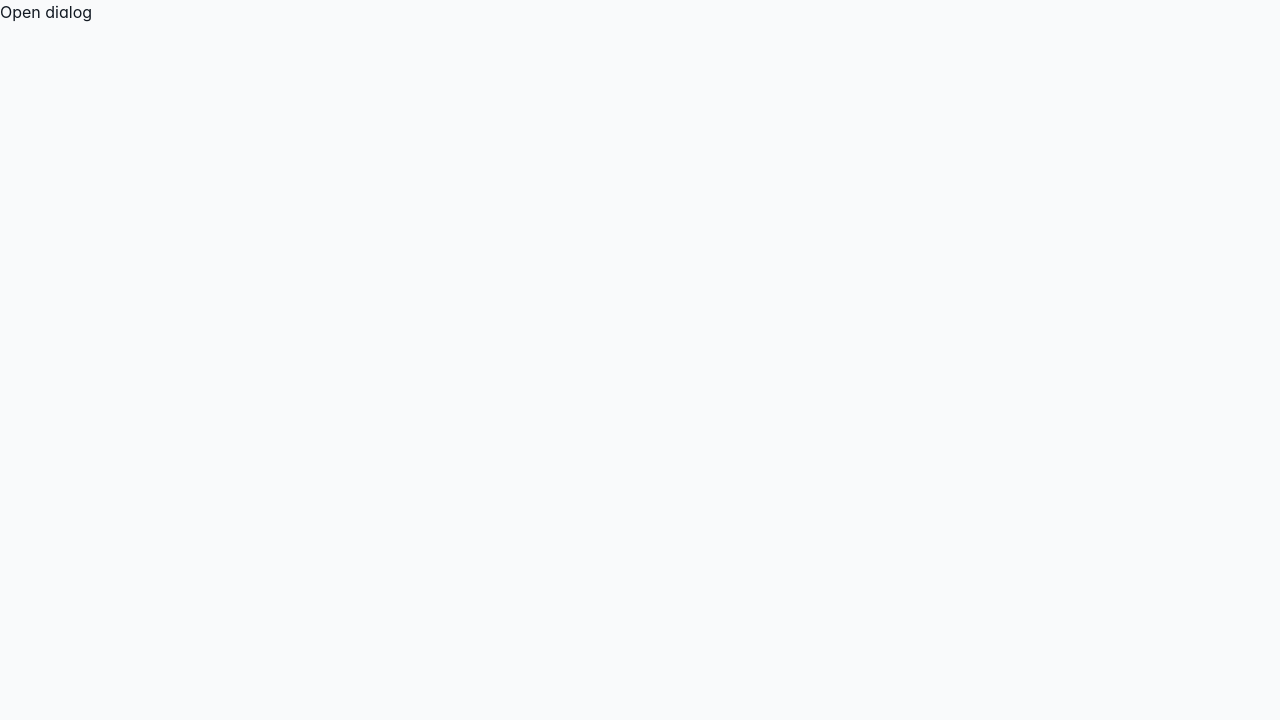
Test: Dialog › opens via showModal and closes with the close button
This screenshot has width=1280, height=720.
Later steps or results of the test are not shown.
Click the button "Open dialog" at (46, 12), box [0,0,92,24]
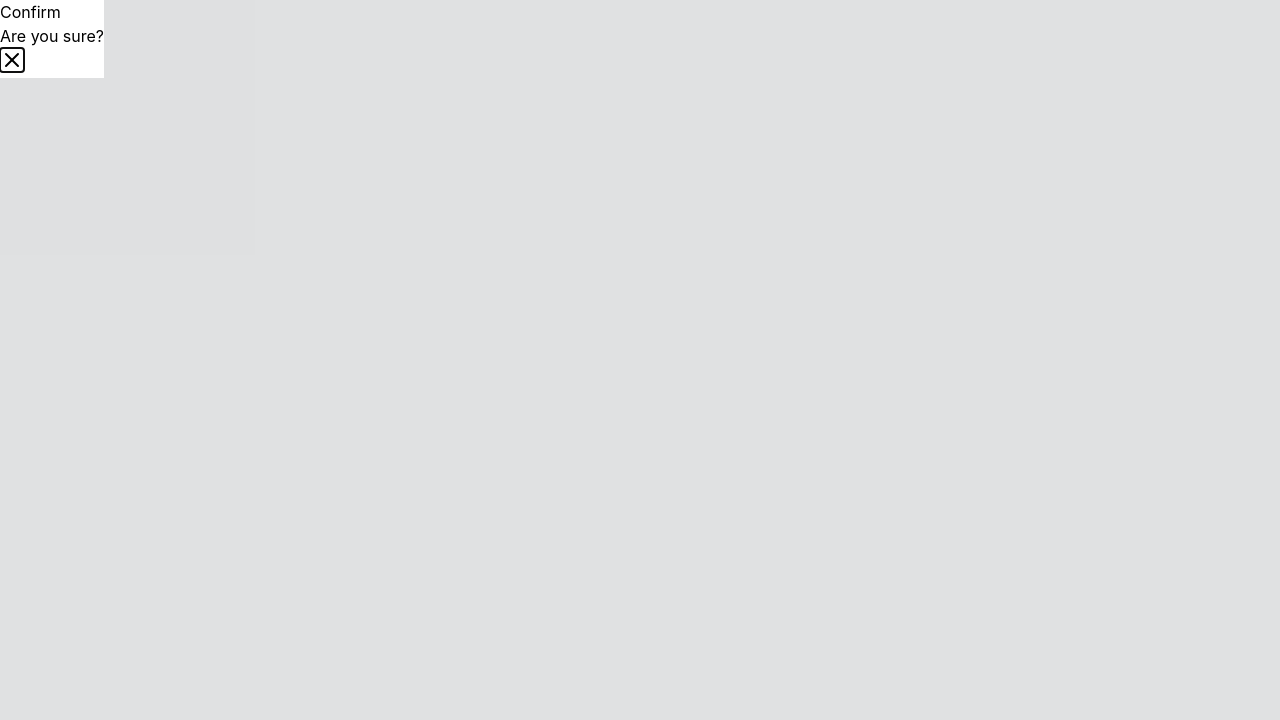
Result: the text "Are you sure?" is shown at [0,24,104,48]
